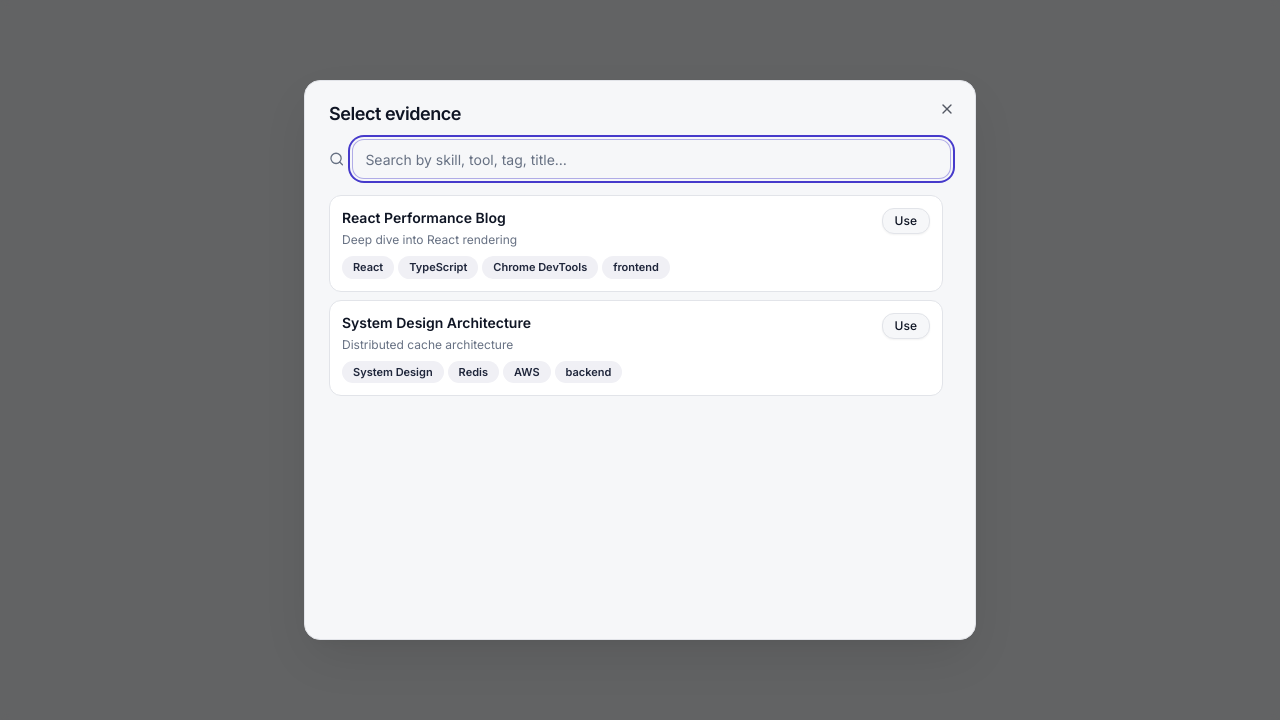
EvidencePicker › filters evidence items by title search
Type "react" into the field with placeholder "Search by skill, tool, tag, title…" at (652, 159), box [352,139,951,179]
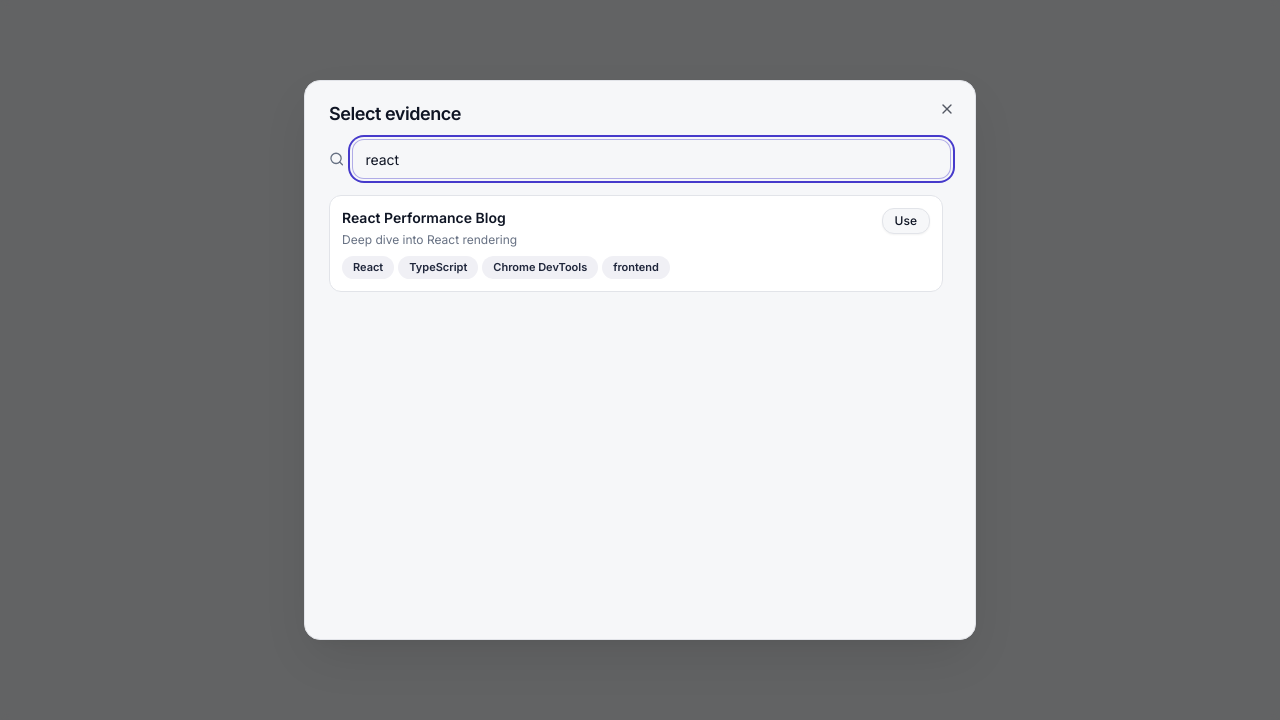
Check: the text "React Performance Blog" is shown, box [342,209,506,226]
Check: the button "System Design Architecture" is gone
